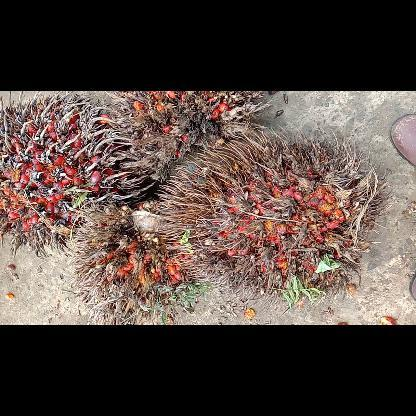Terlalu masak: (151, 127, 381, 308), (0, 91, 150, 255), (66, 200, 211, 324), (102, 90, 276, 176)
